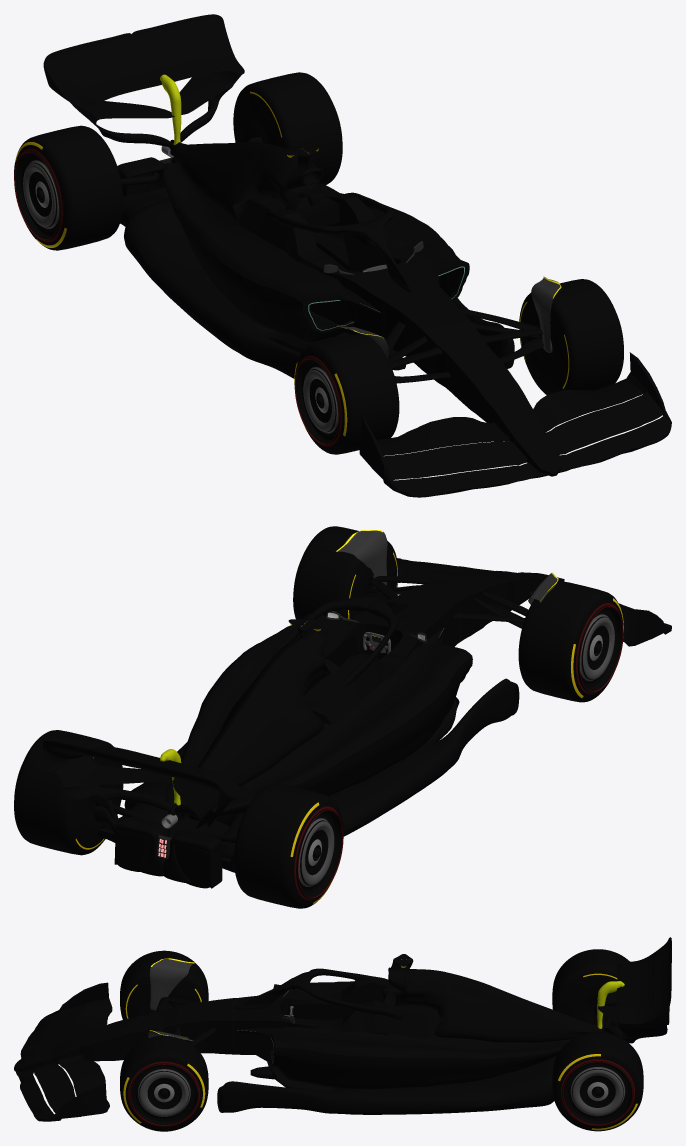
The picture shows the model from 3 angles, top to bottom: view 1: azimuth 30°, elevation 25°; view 2: azimuth 150°, elevation 25°; view 3: azimuth 270°, elevation 25°; orthographic projection. The views are drawn at different scales.
Parts seen in each view (by area): view 1: Cube_3, Cube.006_10, Cube.009_12, Cube.015_26, Cube.010_16, Cylinder.006_35, Cylinder.007_36, Cylinder_4, Cube.008_13, Cylinder.001_14, Cube.005_9, Cube.007_11 (+5 smaller); view 2: Cube.009_12, Cube_3, Cylinder.006_35, Cube.008_13, Cylinder.007_36, Cube.010_16, Cube.015_26, Cylinder.001_14, Cylinder_4, Cube.013_24, Cube.006_10, Cube.005_9 (+4 smaller); view 3: Cube_3, Cube.009_12, Cube.010_16, Cube.008_13, Cube.006_10, Cylinder.001_14, Cylinder_4, Cube.015_26, Cylinder.006_35, Cylinder.007_36, Cube.005_9, Cube.007_11 (+2 smaller).
Part boxes in pixels (bbox=[...]): Cube_3: bbox=[232, 183, 562, 476]; Cube.006_10: bbox=[359, 352, 671, 497]; Cube.009_12: bbox=[163, 162, 469, 342]; Cube.015_26: bbox=[43, 14, 244, 146]; Cube.010_16: bbox=[120, 193, 514, 378]; Cylinder.006_35: bbox=[14, 125, 123, 250]; Cylinder.007_36: bbox=[294, 333, 399, 454]; Cylinder_4: bbox=[519, 279, 623, 394]; Cube.008_13: bbox=[169, 139, 322, 220]; Cylinder.001_14: bbox=[233, 72, 342, 184]; Cube.005_9: bbox=[265, 192, 412, 292]; Cube.007_11: bbox=[337, 276, 561, 358]; Cube.009_12: bbox=[165, 613, 472, 820]; Cube_3: bbox=[248, 571, 564, 724]; Cylinder.006_35: bbox=[234, 783, 343, 908]; Cube.008_13: bbox=[168, 618, 325, 817]; Cylinder.007_36: bbox=[518, 581, 623, 702]; Cube.010_16: bbox=[101, 678, 519, 872]; Cube.015_26: bbox=[42, 740, 243, 828]; Cylinder.001_14: bbox=[14, 730, 123, 855]; Cylinder_4: bbox=[293, 526, 398, 619]; Cube.013_24: bbox=[114, 817, 222, 888]; Cube.006_10: bbox=[397, 558, 671, 646]; Cube.005_9: bbox=[271, 596, 415, 686]; Cube_3: bbox=[14, 977, 441, 1071]; Cube.009_12: bbox=[236, 981, 572, 1089]; Cube.010_16: bbox=[217, 1059, 554, 1114]; Cube.008_13: bbox=[382, 954, 607, 1042]; Cube.006_10: bbox=[15, 982, 112, 1121]; Cylinder.001_14: bbox=[552, 1032, 643, 1131]; Cylinder_4: bbox=[120, 1035, 208, 1131]; Cube.015_26: bbox=[598, 937, 671, 1043]; Cylinder.006_35: bbox=[552, 949, 629, 1036]; Cylinder.007_36: bbox=[120, 950, 208, 1019]; Cube.005_9: bbox=[234, 968, 403, 1019]; Cube.007_11: bbox=[148, 958, 194, 1041].
Bounding box in the file's own units: 1.85 × 0.978 × 4.76.
